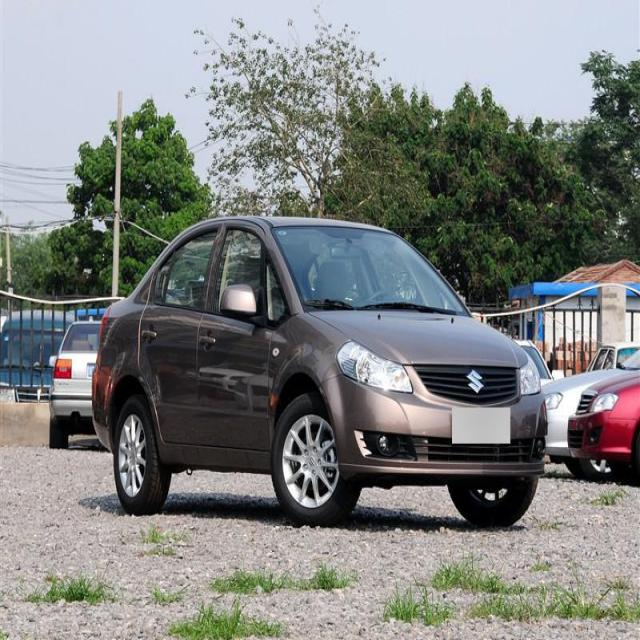back_right_side_light: (98, 302, 113, 346)
door: (138, 228, 226, 450)
front_bumper: (317, 369, 548, 475)
front_glass: (270, 222, 471, 316)
front_left_side_light: (516, 352, 542, 399)
front_right_side_door: (191, 218, 275, 456)
front_right_side_light: (336, 336, 414, 396)
front_right_side_mirror: (220, 282, 262, 326)
wheel: (270, 392, 362, 524), (113, 394, 172, 512), (446, 481, 540, 528)
